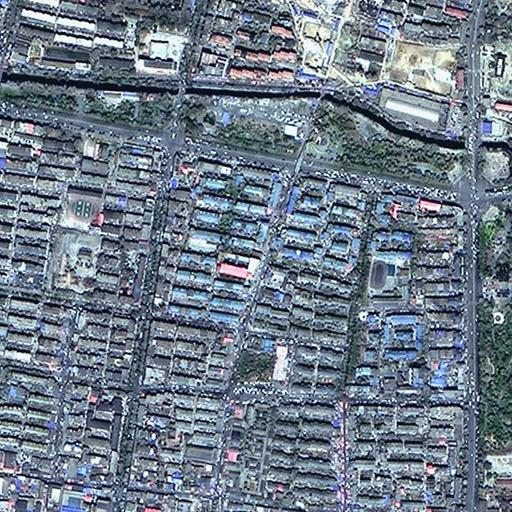school: (364, 251, 413, 308), (55, 194, 103, 238)
